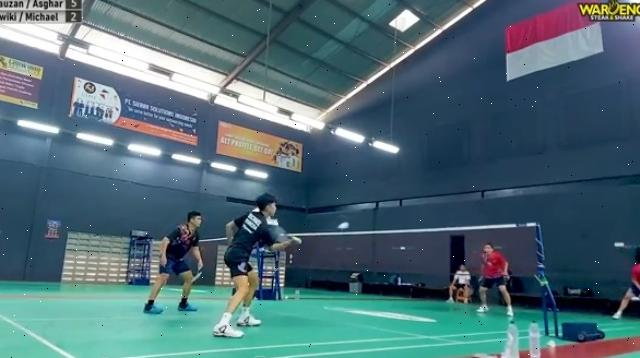Shuttlecock: (335, 219, 351, 233)
